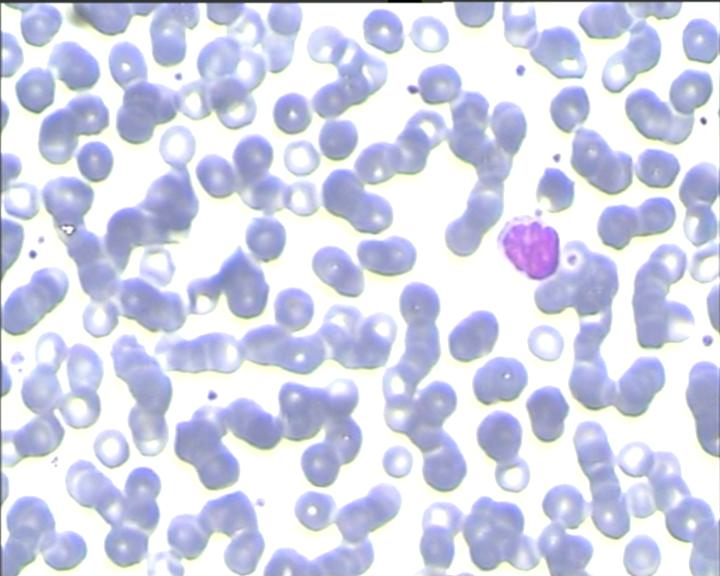lymp: (496, 206, 564, 285)
